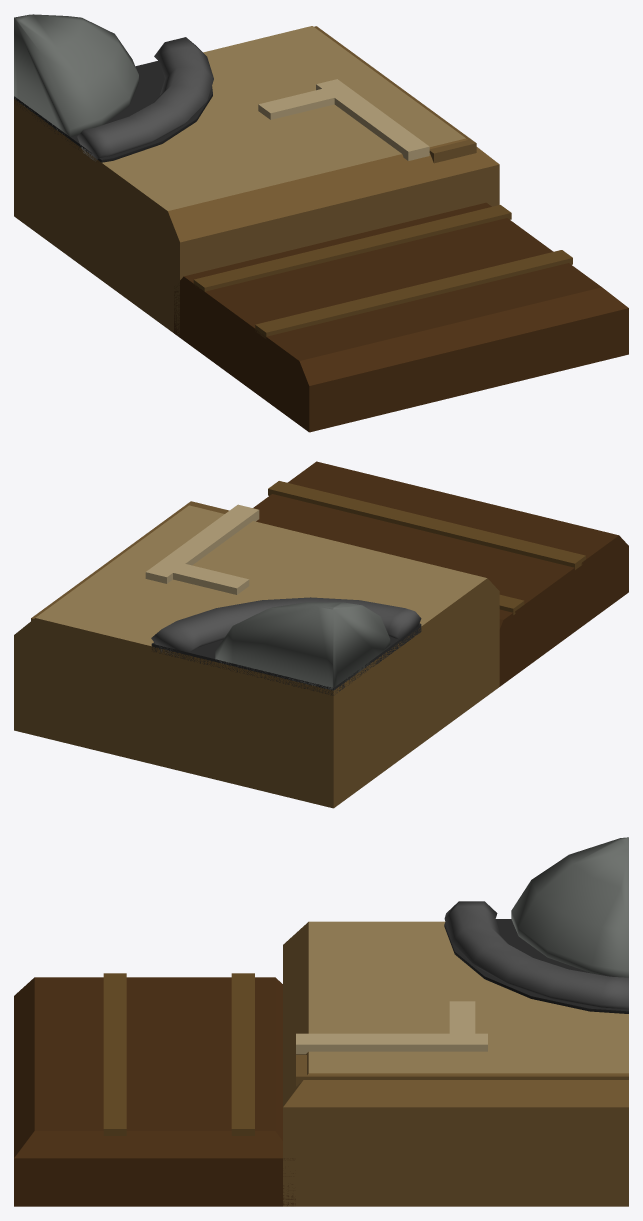
Rendered from newsha-123.glb.
3 views of the same model, one above another, from view 1: azimuth 30°, elevation 25°; view 2: azimuth 150°, elevation 25°; view 3: azimuth 270°, elevation 25° (orthographic). The views are drawn at different scales.
Visible parts, largest first — view 1: newsha-123; view 2: newsha-123; view 3: newsha-123.
Part boxes in pixels (bbox=[...]): newsha-123: bbox=[14, 14, 628, 432]; newsha-123: bbox=[14, 461, 628, 808]; newsha-123: bbox=[14, 837, 628, 1206].
Bounding box in the file's own units: 1.25 × 0.7427 × 2.
